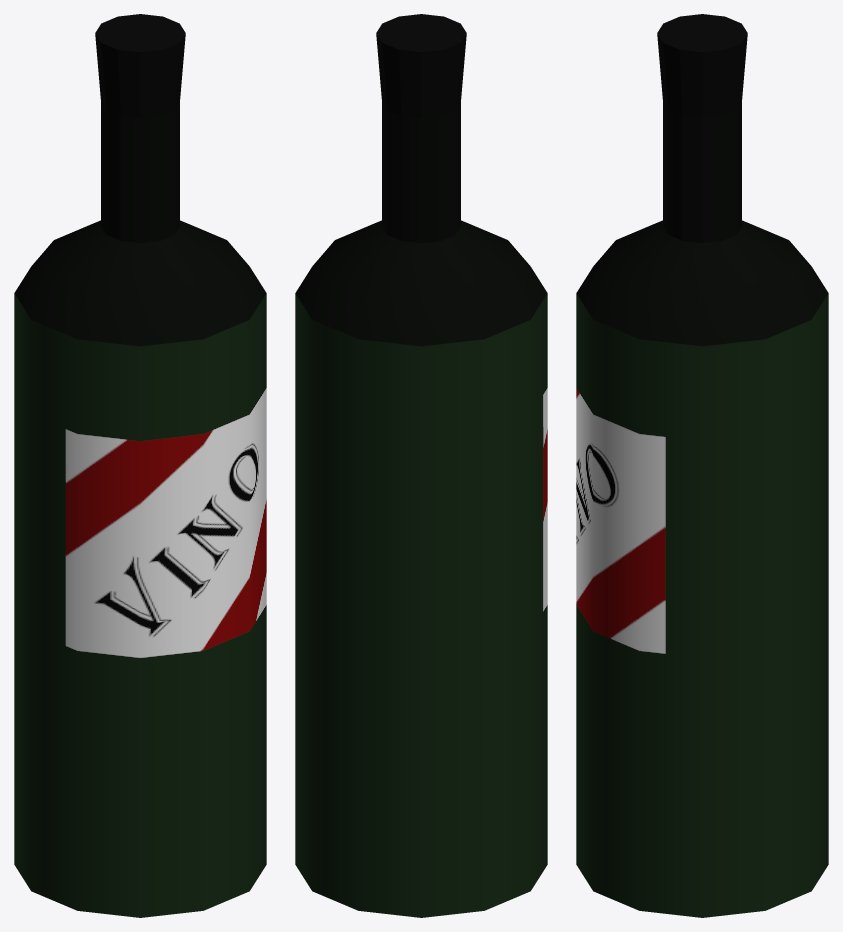
File: tasty-wine.FBX
The picture shows the model from 3 angles, left to right: view 1: azimuth 30°, elevation 25°; view 2: azimuth 150°, elevation 25°; view 3: azimuth 270°, elevation 25°; orthographic projection.
Visible parts, largest first — view 1: Cylinder001; view 2: Cylinder001; view 3: Cylinder001.
Boxes of the visible parts, x1,y1,x2,y2 form: Cylinder001: (14, 14, 266, 917); Cylinder001: (295, 14, 547, 917); Cylinder001: (576, 14, 828, 917).
Bounding box in the file's own units: 10 × 10 × 36.37.
3 materials, 1 textured.
